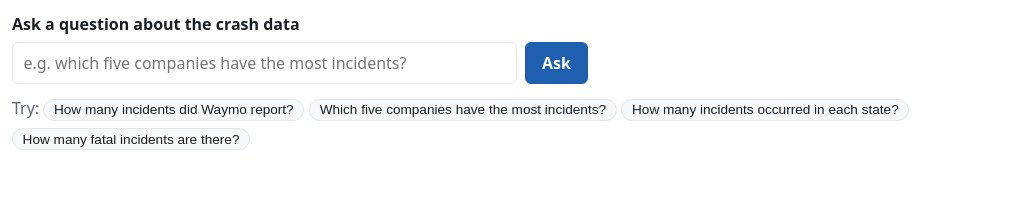
Test case: NlSqlQuery › renders a subtle notice on a fallback result
In the field labelled "Ask a question about the crash data": [265, 63] box [12,42,517,84], type "??"
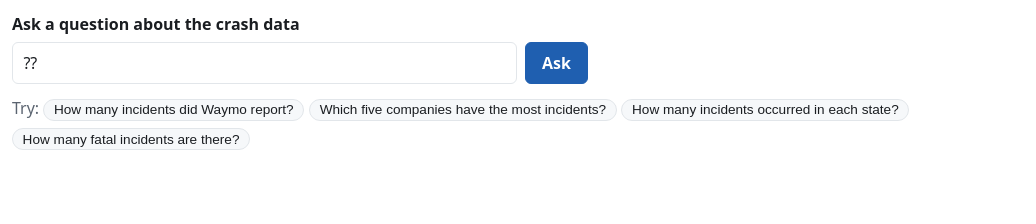
Submit the form, box [12,13,588,84]
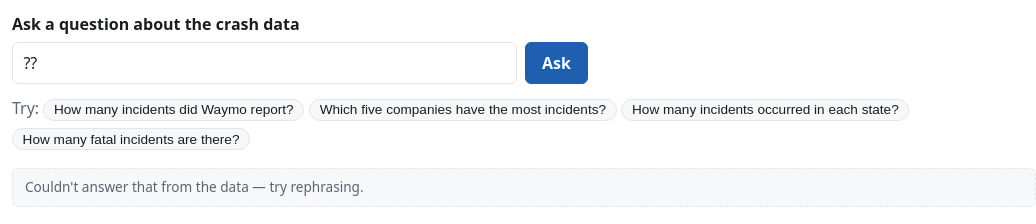
Result: the text "Couldn't answer that from the data — try rephrasing." is shown at [12,168,1035,207]
Result: the text "Couldn't answer that" is shown at [25,177,364,196]
